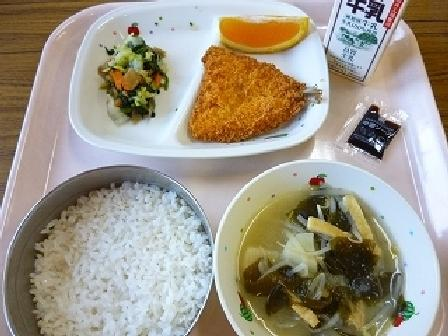Citrus: (205, 10, 311, 55)
Milk: (314, 0, 415, 87)
Rice: (4, 169, 216, 333)
Salad: (88, 24, 173, 124)
Soups: (221, 172, 432, 331)
cutlet: (189, 42, 336, 146)
